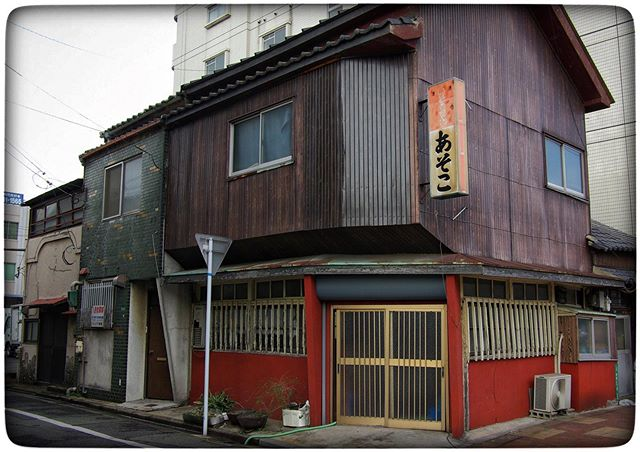building: (162, 1, 621, 430), (73, 111, 170, 403), (1, 180, 81, 392)
sign: (417, 80, 472, 192)
